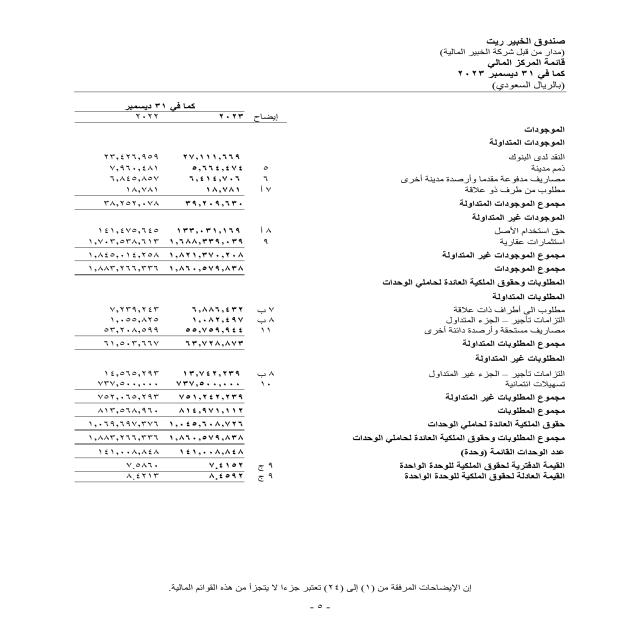financial_sheets: (484, 58, 567, 72)
table: (41, 90, 297, 501)
